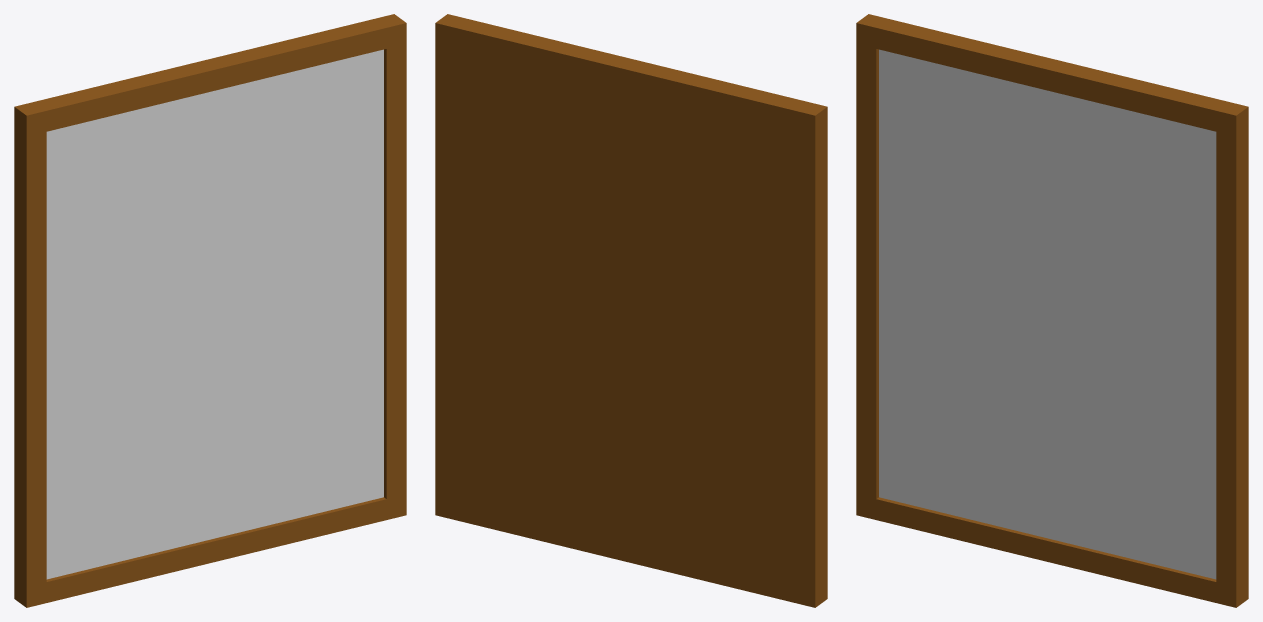
The model's file is Photo_Frame_01.fbx.
3 renders of one model, left to right at view 1: azimuth 30°, elevation 25°; view 2: azimuth 150°, elevation 25°; view 3: azimuth 330°, elevation 25°, orthographic.
Visible parts, largest first — view 1: Cube.005; view 2: Cube.005; view 3: Cube.005.
Part boxes in pixels (bbox=[...]): Cube.005: bbox=[14, 14, 406, 607]; Cube.005: bbox=[435, 14, 827, 607]; Cube.005: bbox=[856, 14, 1248, 607].
Bounding box in the file's own units: 200 × 248 × 11.21.
